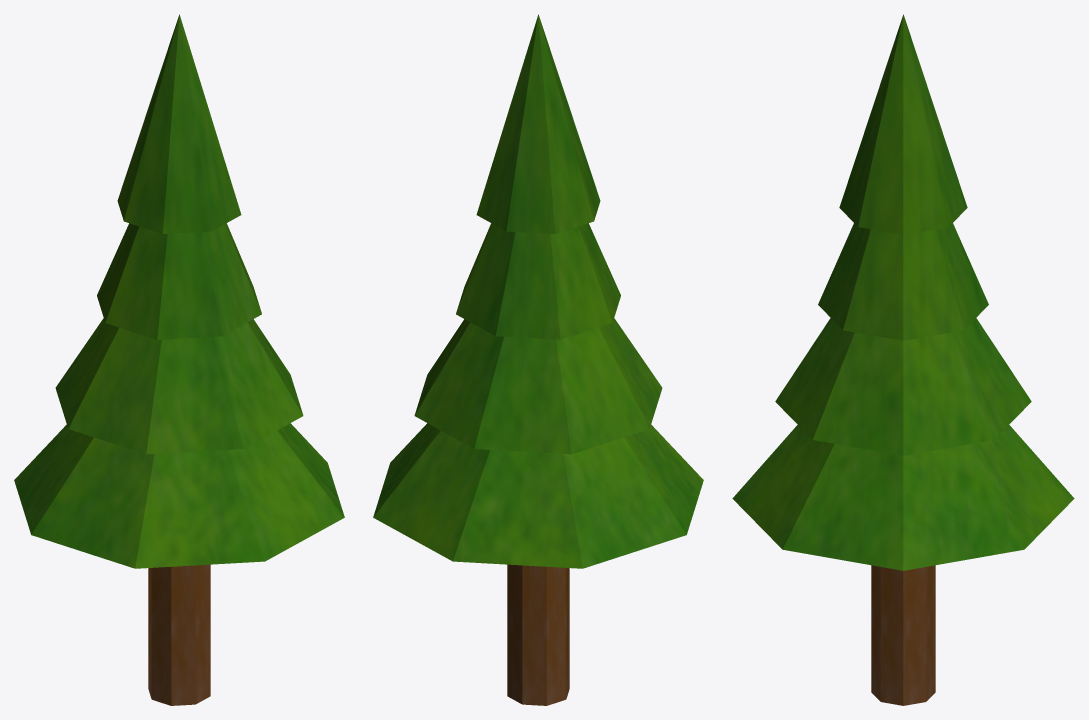
The model's file is Tree.fbx.
3 renders of one model, left to right at view 1: azimuth 30°, elevation 25°; view 2: azimuth 150°, elevation 25°; view 3: azimuth 270°, elevation 25°, orthographic.
Visible parts, largest first — view 1: Mesh; view 2: Mesh; view 3: Mesh.
Boxes of the visible parts, bbox=[...] form: Mesh: bbox=[14, 14, 344, 705]; Mesh: bbox=[373, 14, 703, 705]; Mesh: bbox=[732, 14, 1074, 705].
Bounding box in the file's own units: 160 × 350 × 160.
